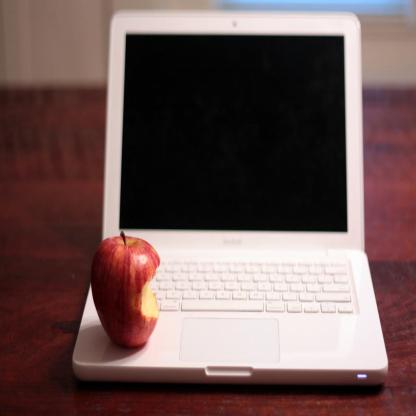board: (70, 5, 389, 382)
